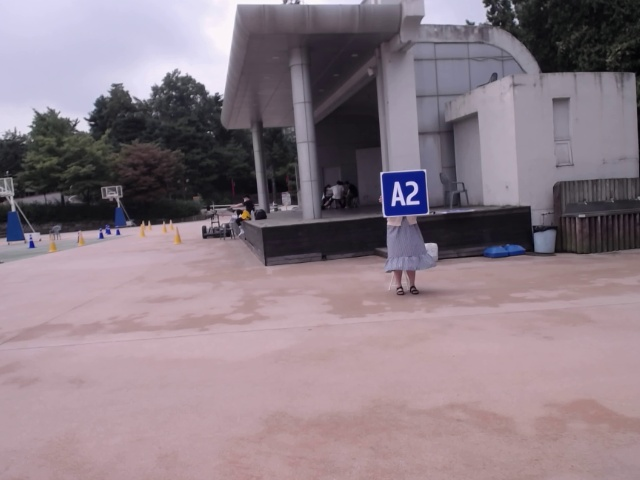delivery_a2: (381, 170, 429, 217)
